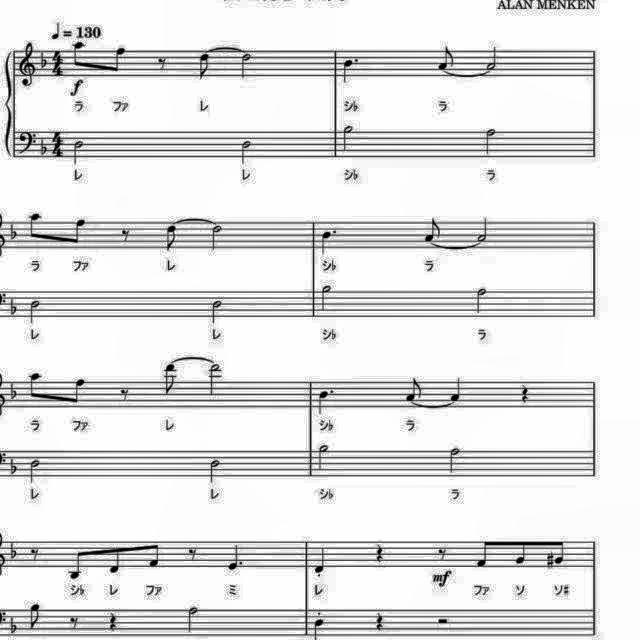Bass-clef: (16, 127, 38, 157)
Bemol: (6, 216, 22, 244), (5, 379, 23, 401), (7, 292, 21, 318), (38, 48, 51, 72), (7, 614, 20, 638), (6, 455, 20, 477), (7, 539, 20, 561), (38, 136, 50, 156)
Eighth-note: (66, 546, 90, 582), (66, 215, 90, 249), (158, 362, 182, 396), (66, 374, 90, 406), (403, 374, 427, 404), (420, 215, 444, 245), (108, 542, 128, 578), (474, 536, 494, 572), (26, 210, 46, 244), (26, 368, 46, 402), (436, 44, 460, 72), (162, 222, 182, 255), (144, 540, 164, 572), (110, 46, 130, 78), (512, 536, 532, 568), (550, 536, 570, 568), (197, 49, 216, 82), (70, 40, 88, 72), (27, 602, 46, 632), (68, 78, 86, 100)
Eighth-rest: (115, 384, 134, 404), (116, 223, 134, 244), (434, 540, 451, 562), (153, 54, 171, 74), (66, 613, 82, 635), (183, 542, 200, 562), (27, 544, 43, 564)
Half-note: (204, 362, 226, 400), (470, 284, 490, 318), (482, 125, 502, 159), (316, 282, 336, 314), (446, 444, 466, 476), (314, 442, 332, 476), (207, 222, 226, 254), (27, 296, 46, 328), (205, 455, 225, 485), (237, 50, 255, 82), (340, 124, 358, 156), (183, 602, 201, 634), (27, 455, 46, 485), (472, 216, 492, 244), (208, 296, 226, 326), (238, 138, 256, 168), (484, 44, 502, 74), (70, 137, 86, 167)
Half-rest: (432, 614, 452, 630)
Quarter-dot: (315, 387, 341, 418), (320, 224, 344, 256), (340, 56, 364, 86), (224, 540, 246, 572)
Quarter-note: (311, 544, 331, 578), (448, 375, 467, 403), (310, 616, 328, 640)
Quarter-rest: (517, 378, 535, 406), (372, 608, 388, 636), (104, 609, 120, 635), (372, 540, 388, 566)
Treble-clef: (17, 40, 38, 91)
